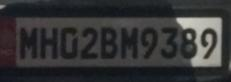0: (59, 26, 80, 60)
2: (81, 25, 98, 60)
3: (160, 24, 180, 60)
8: (180, 27, 199, 59)
9: (141, 26, 159, 60), (201, 27, 219, 60)
B: (99, 26, 120, 61)
H: (40, 26, 58, 61)
M: (18, 25, 39, 62), (119, 26, 140, 59)
